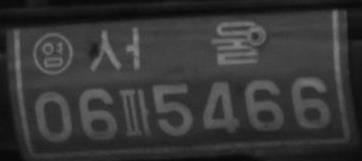0: (33, 90, 73, 145)
4: (201, 79, 239, 134)
5: (152, 82, 193, 136)
6: (289, 75, 331, 131), (77, 86, 118, 142), (244, 77, 285, 133)
서울_D: (89, 20, 260, 74)
영: (33, 31, 74, 77)
파: (119, 88, 152, 137)
